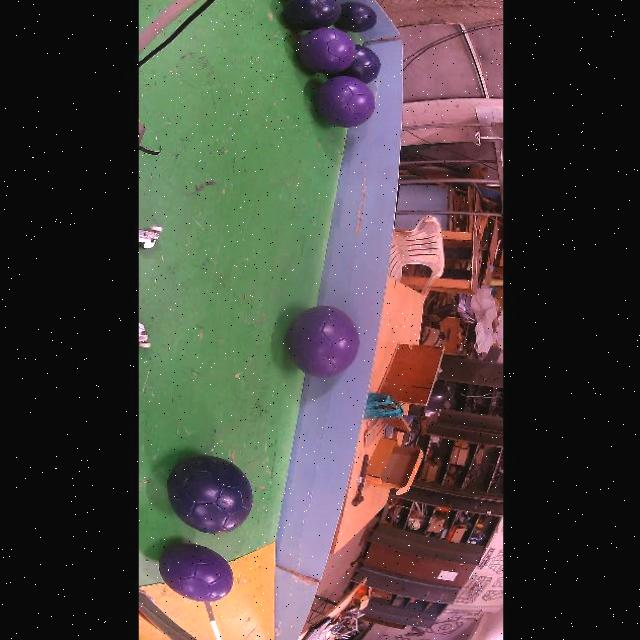B: (167, 455, 252, 533), (282, 0, 340, 31), (333, 45, 379, 84), (335, 2, 376, 32)
P: (315, 76, 374, 127), (296, 27, 354, 74)
